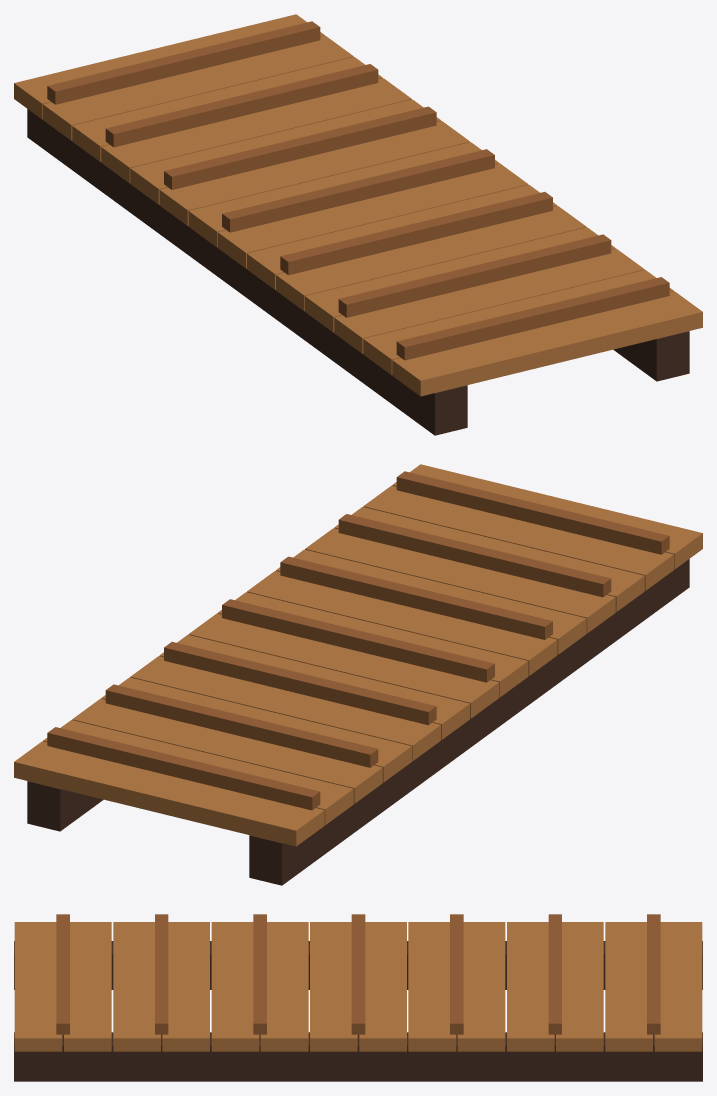
The model's file is 014_shore_cargo_gangway_cleated.fbx.
The picture shows the model from 3 angles, top to bottom: view 1: azimuth 30°, elevation 25°; view 2: azimuth 150°, elevation 25°; view 3: azimuth 270°, elevation 25°; orthographic projection. The views are drawn at different scales.
Parts seen in each view (by area): view 1: 014_shore_cargo_gangway_cleated; view 2: 014_shore_cargo_gangway_cleated; view 3: 014_shore_cargo_gangway_cleated.
Boxes of the visible parts, <box> form: 014_shore_cargo_gangway_cleated: <box>14,14,702,435</box>; 014_shore_cargo_gangway_cleated: <box>14,464,702,885</box>; 014_shore_cargo_gangway_cleated: <box>14,914,702,1081</box>.
Bounding box in the file's own units: 1.12 × 0.27 × 2.8.
Materials: 1 (1 with a texture image).
